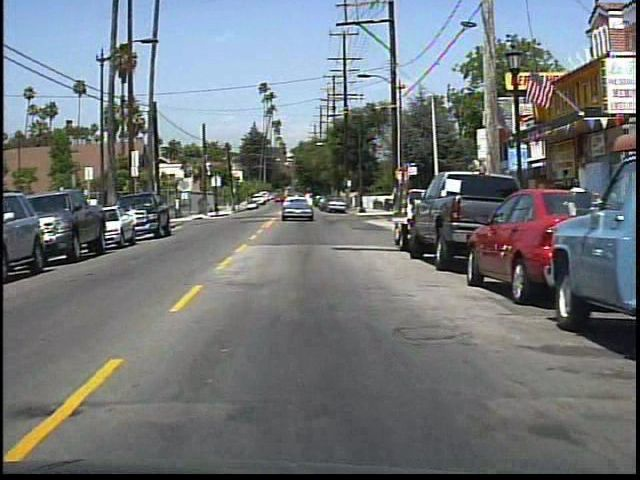person: (563, 175, 592, 244)
